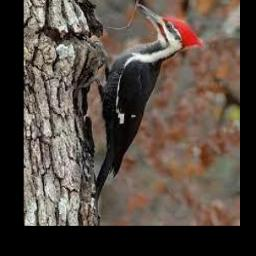Woodpecker: (94, 4, 204, 210)
